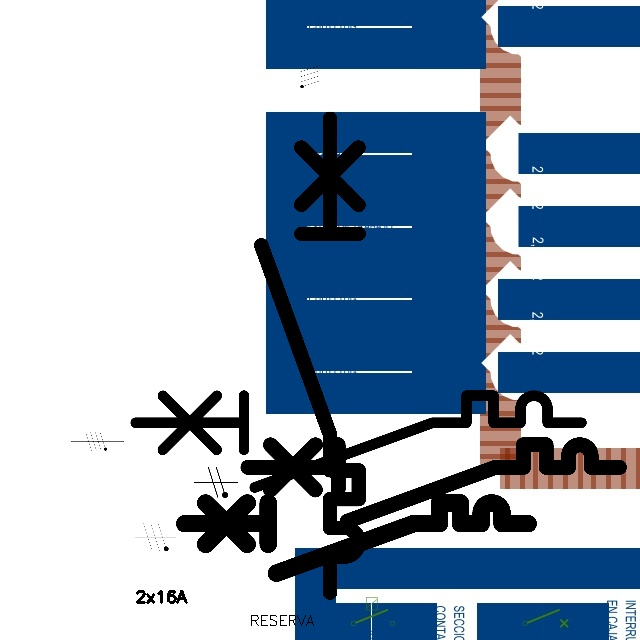interruptor_termomagnetico: (249, 106, 371, 605), (124, 384, 593, 499), (238, 435, 629, 530), (175, 494, 536, 582)
